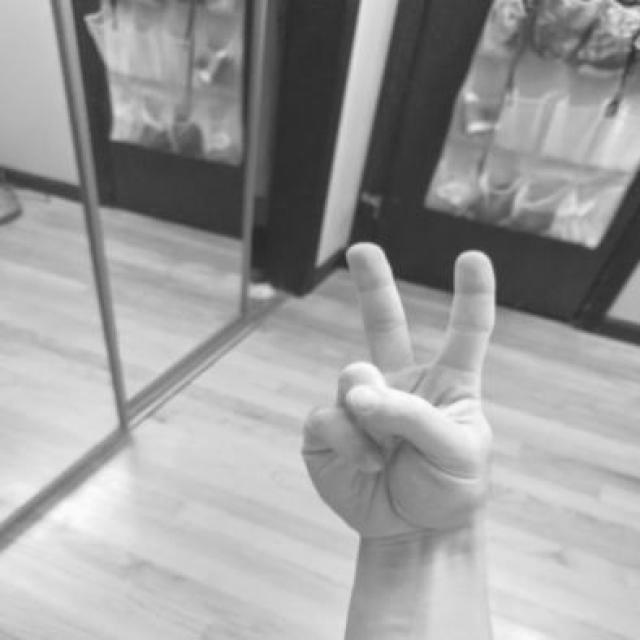V: (295, 238, 503, 551)
